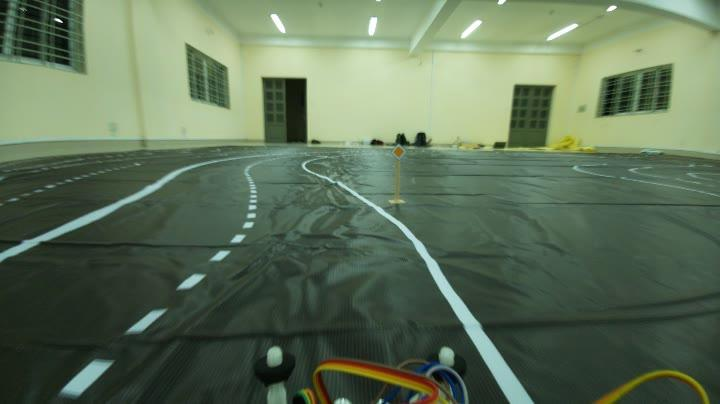priority: (389, 138, 410, 162)
